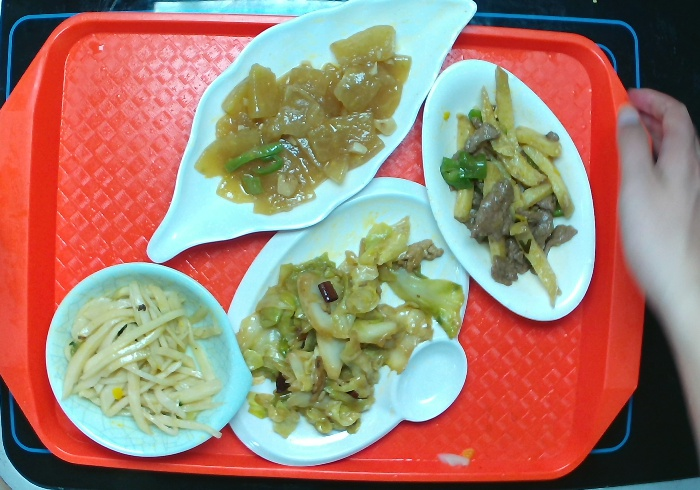RJxy-Bai_Se_Tuo_Yuan: (423, 57, 594, 329)
RJxy-Shu_Ye_Pan: (146, 1, 478, 267)
RJxy-Xiao_Jiao_Yuan_Wan: (45, 264, 252, 459)
RJxy-Zhan_Liao_Pan: (222, 171, 476, 469)
